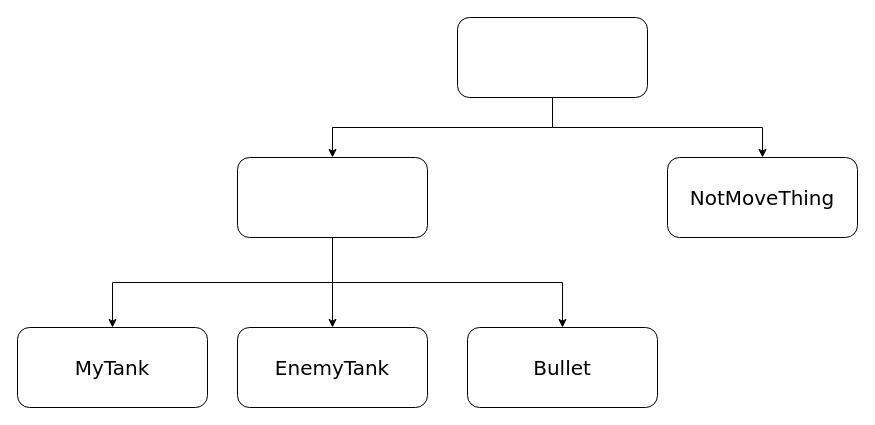
Image size: 875x425. Some labels were removed from this diagram. Here are the shapes that lost their labels. From the top down, the centre of each, then its label:
pixel 552 57: GameObject
pixel 332 197: MoveThing
